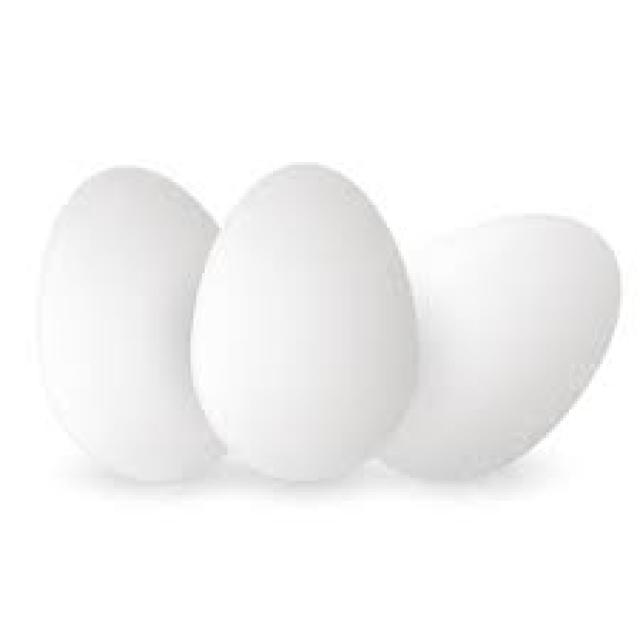White Egg: (192, 154, 424, 493), (28, 161, 241, 507), (406, 192, 618, 488)
